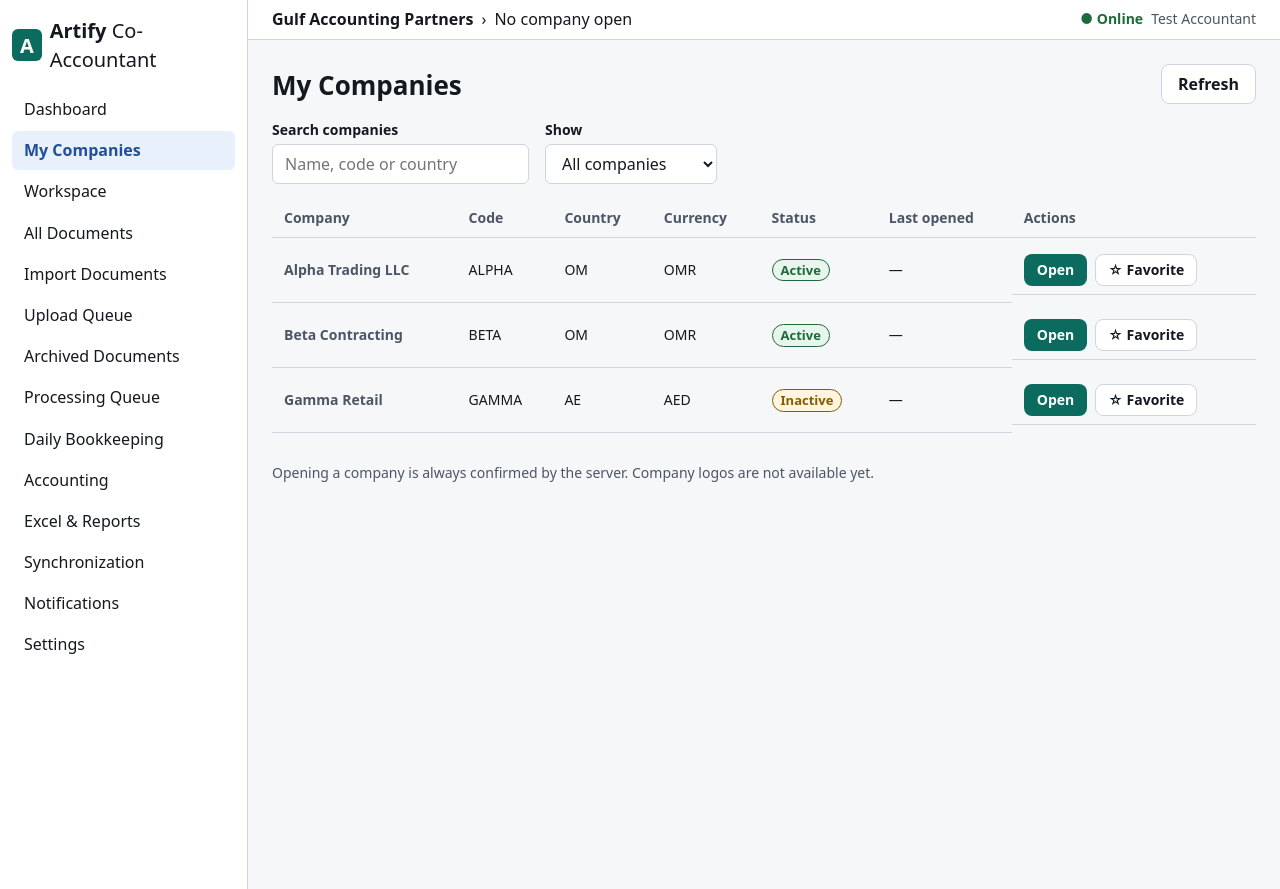
Test: Cloud synchronization (Phase 12) › is not 'Synchronized' until the server has been asked and confirms nothing is open
The width and height of the screenshot is (1280, 889).
Click the button with aria-label "Open Alpha Trading LLC": {"x": 1056, "y": 270} [1024,254,1087,286]
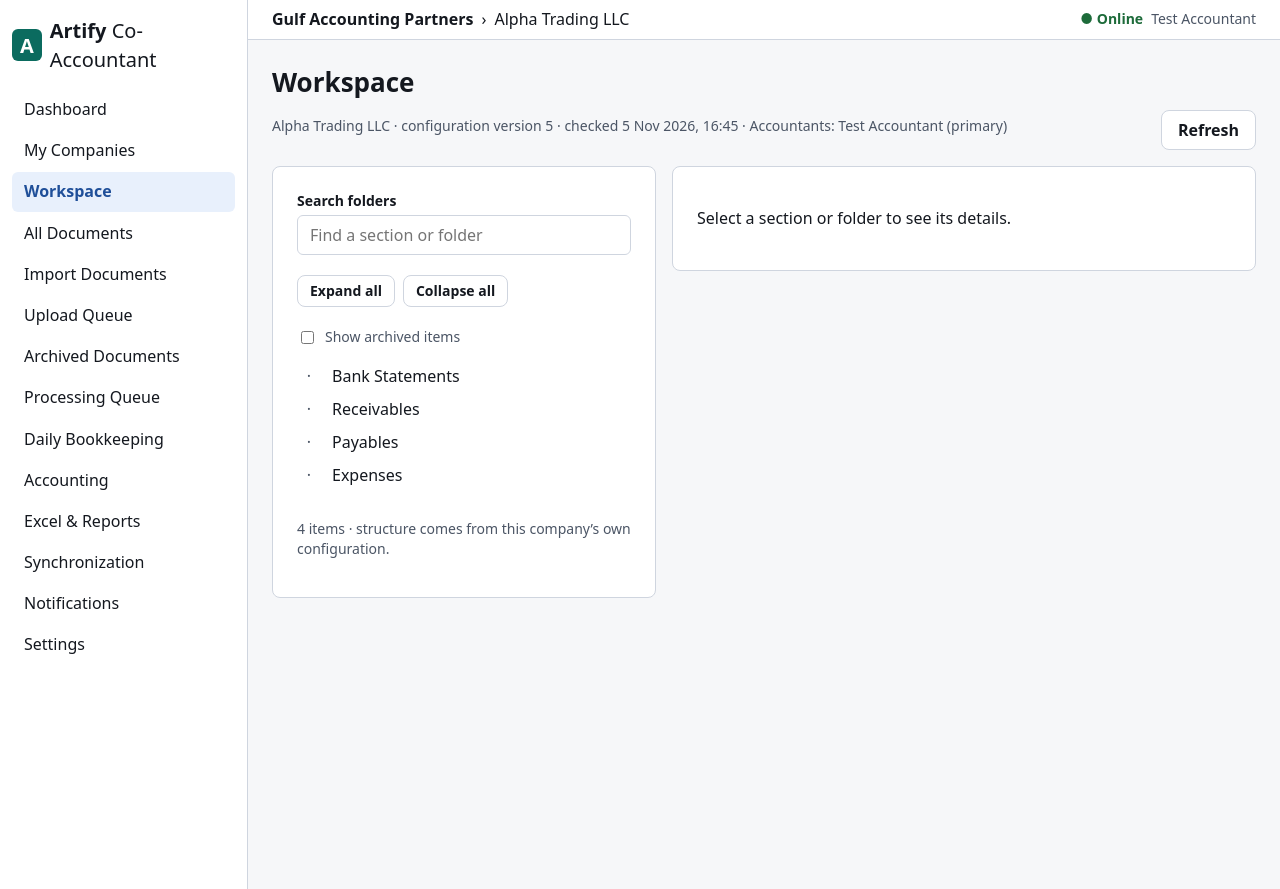
Result: the heading "Workspace" is shown at [272,64,414,100]
Click the button "Synchronization": {"x": 124, "y": 563} [12,543,235,582]
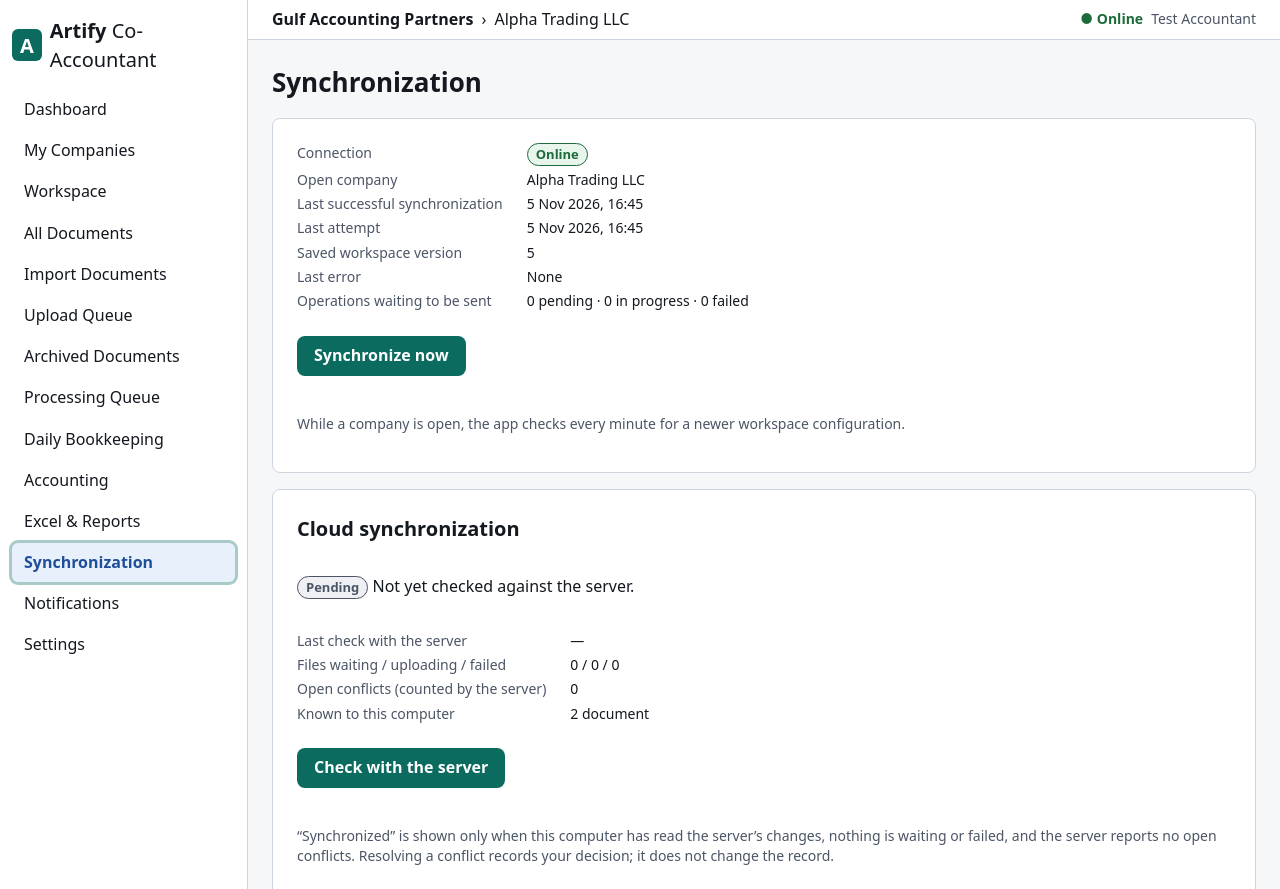
Result: the heading "Synchronization" is shown at [272,64,482,100]
Result: the text "Pending" is shown at [297,576,368,599]
Result: the text "Not yet checked against the server." is shown at [372,575,634,597]
Click the button "Check with the server": {"x": 401, "y": 768} [297,748,505,788]
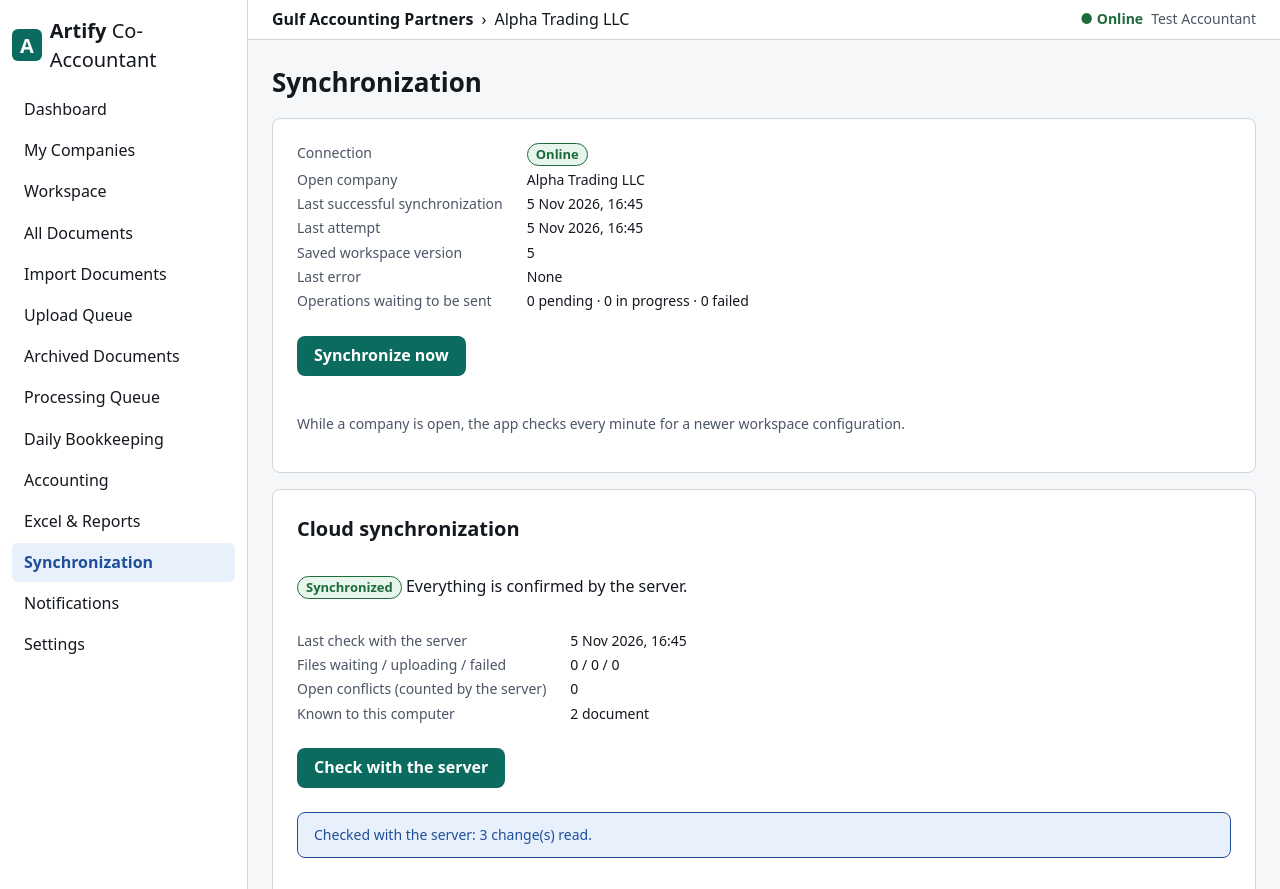
Result: the text "Synchronized" is shown at [297,576,402,599]
Result: the text "Checked with the server: 3 change(s) read." is shown at [297,812,1231,858]
